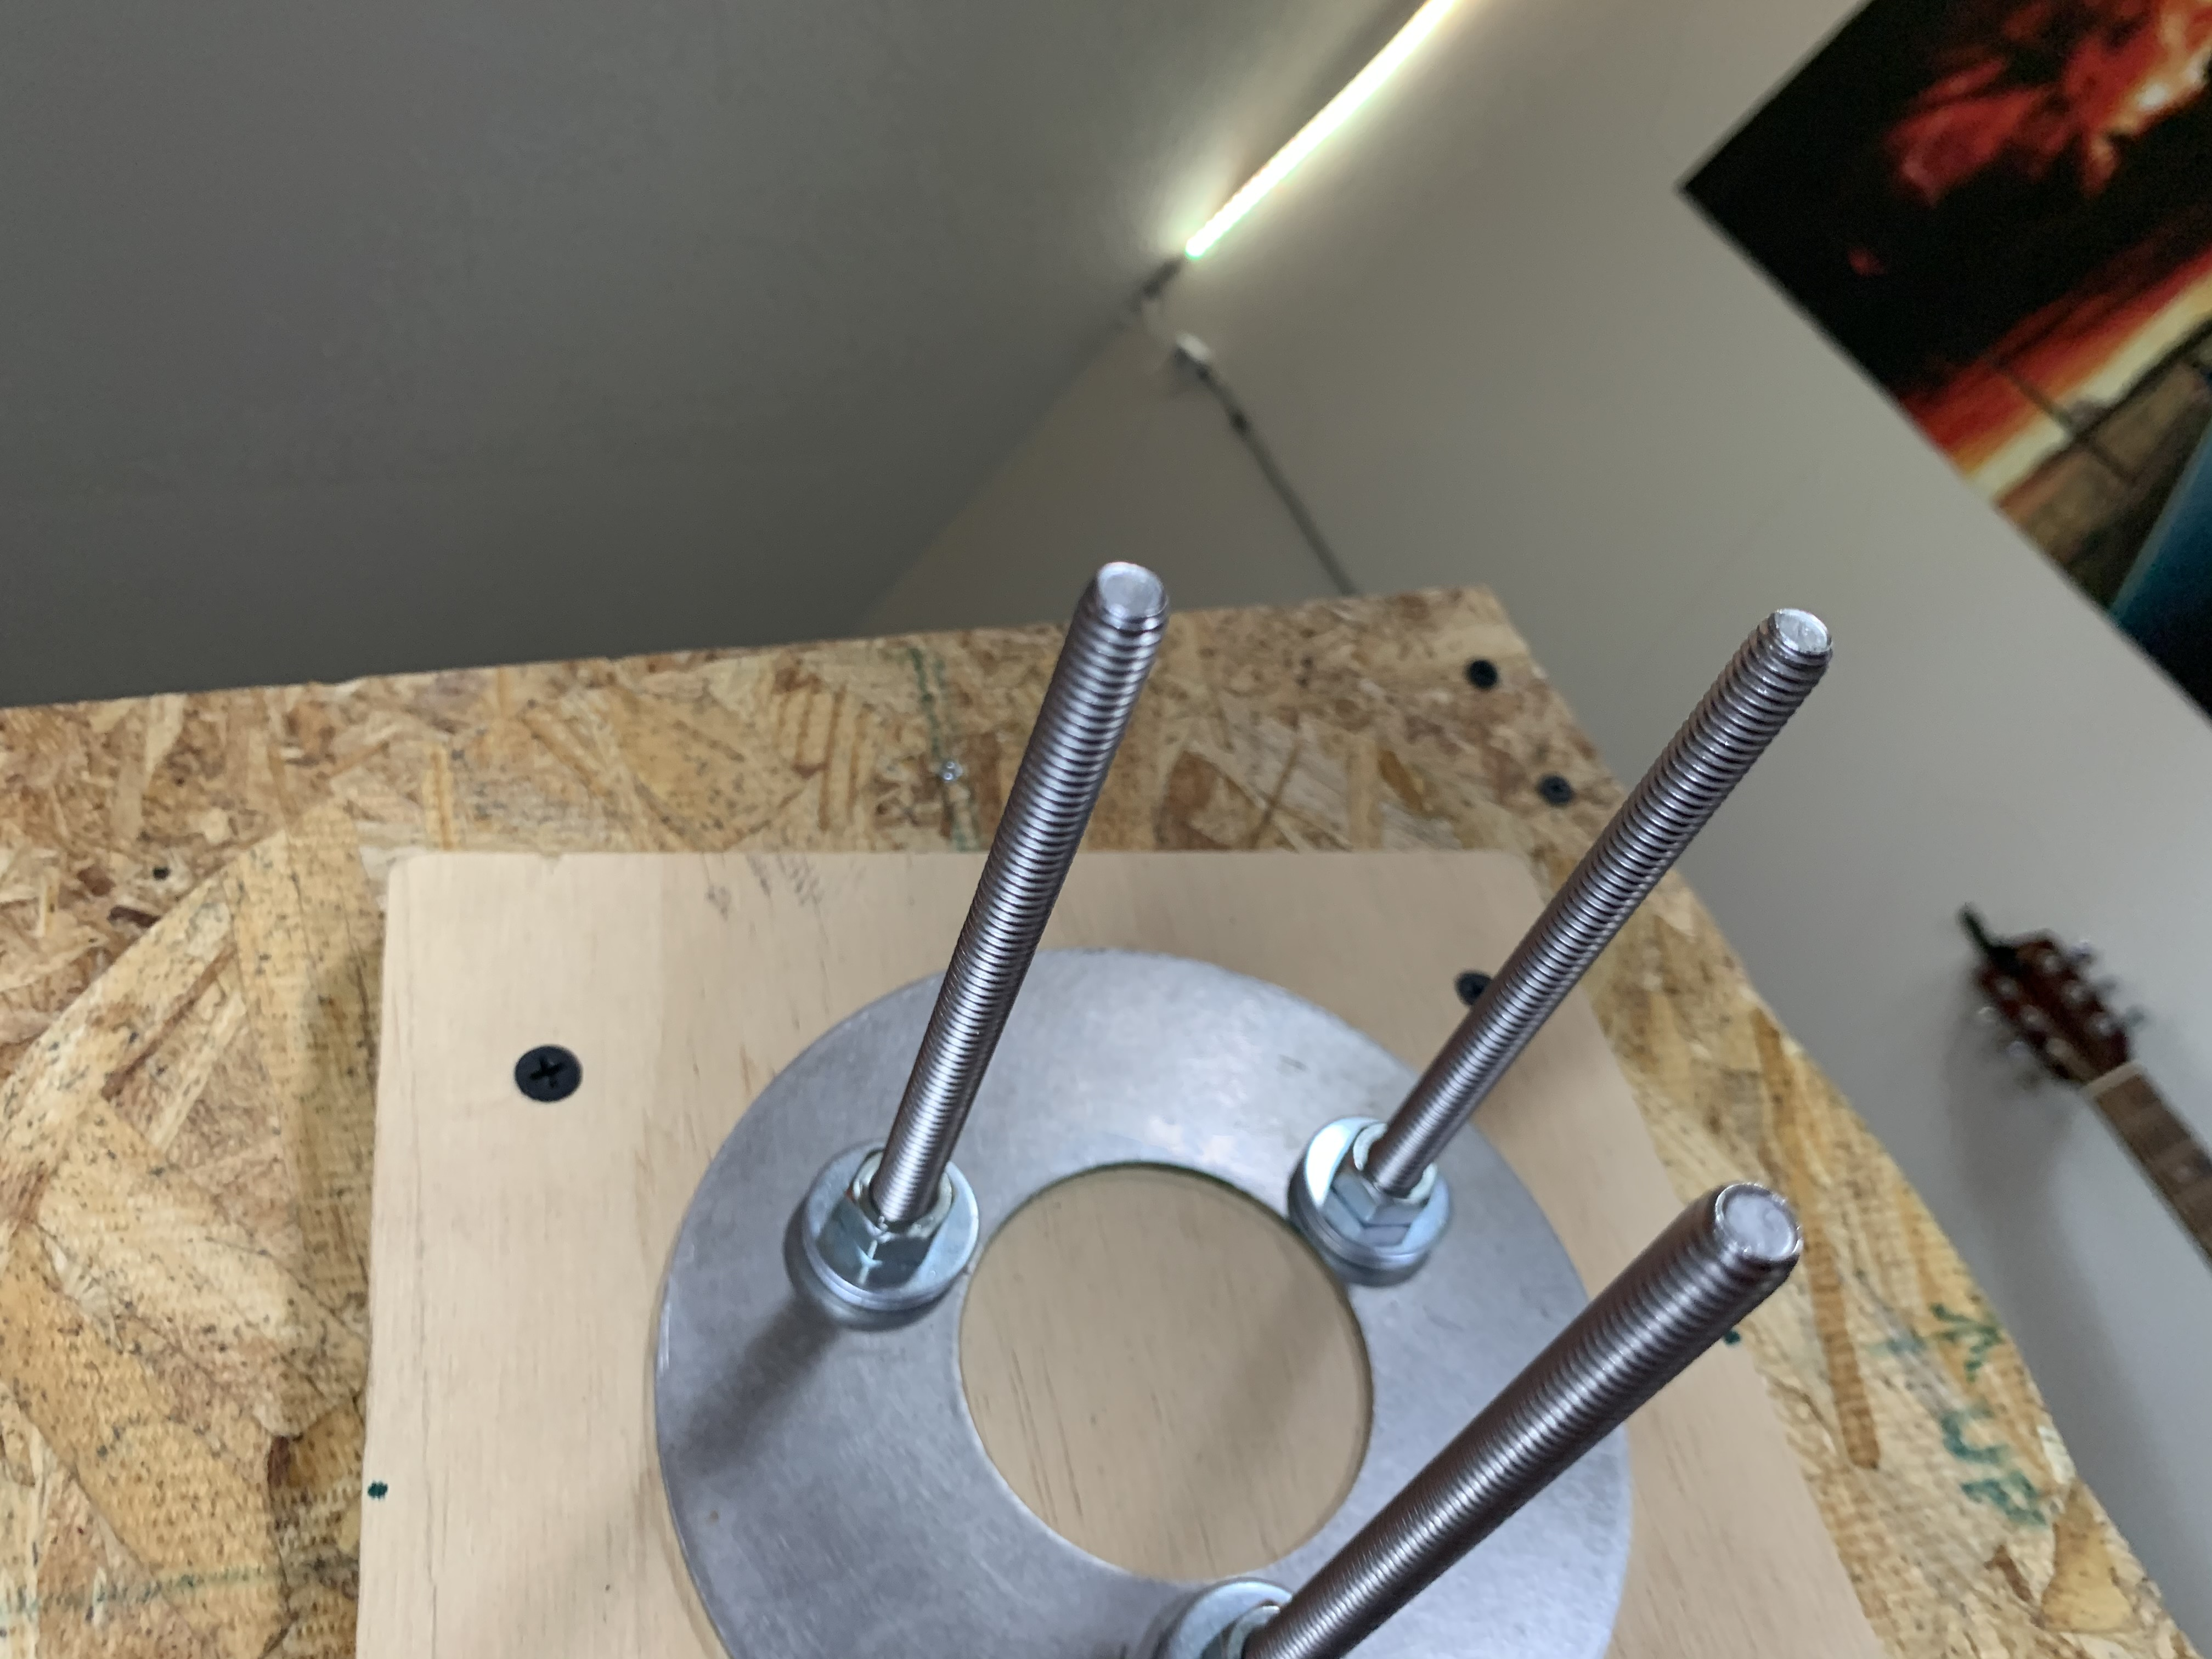bolt: (792, 1141, 975, 1309), (1291, 1115, 1458, 1279), (1144, 1581, 1325, 1659)
